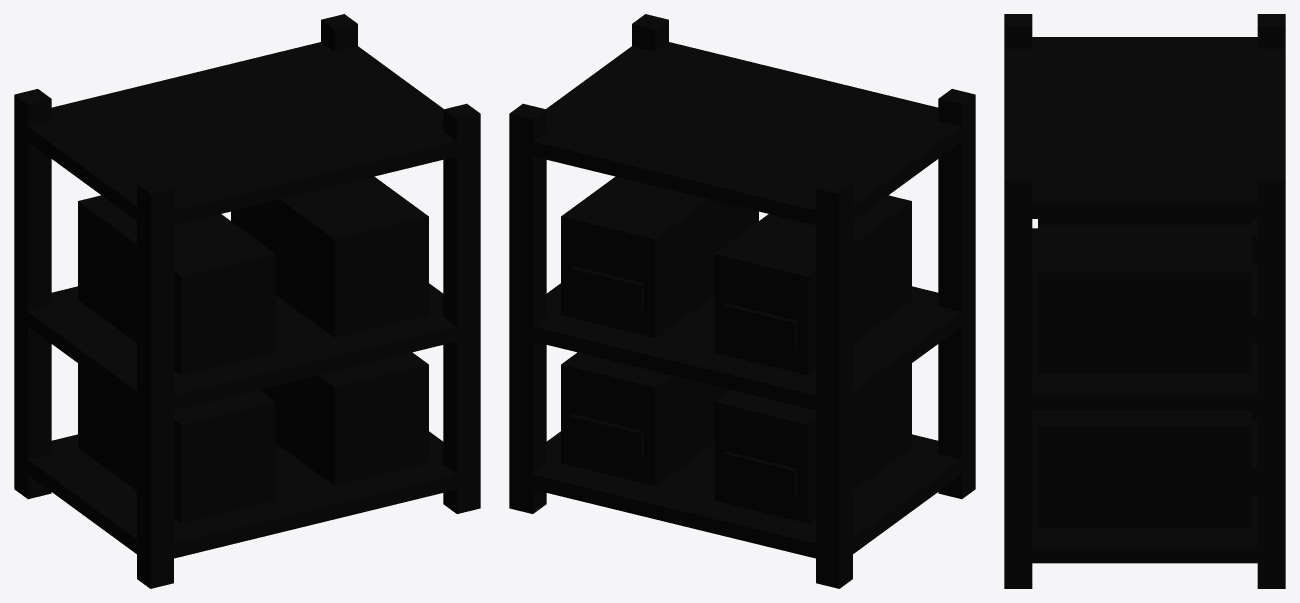
File: lab_shelf.obj
3 renders of one model, left to right at view 1: azimuth 30°, elevation 25°; view 2: azimuth 150°, elevation 25°; view 3: azimuth 270°, elevation 25°, orthographic. The views are drawn at different scales.
Bounding box in the file's own units: 0.7656 × 0.875 × 0.5469.
